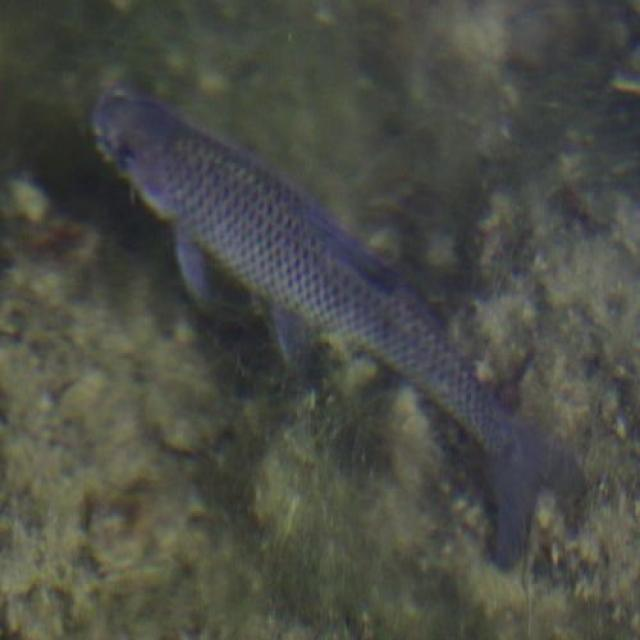Cakil Baligi: (81, 81, 588, 568)
